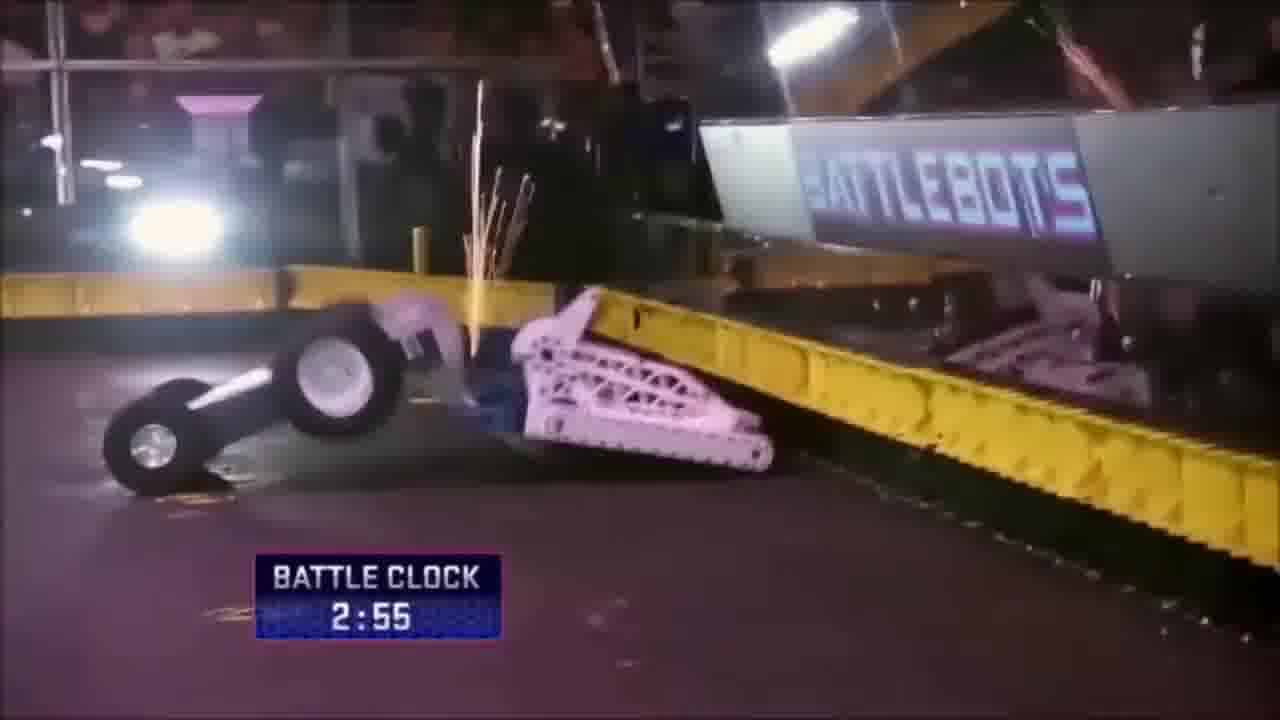combatbot: (103, 292, 462, 493), (512, 286, 776, 476)
